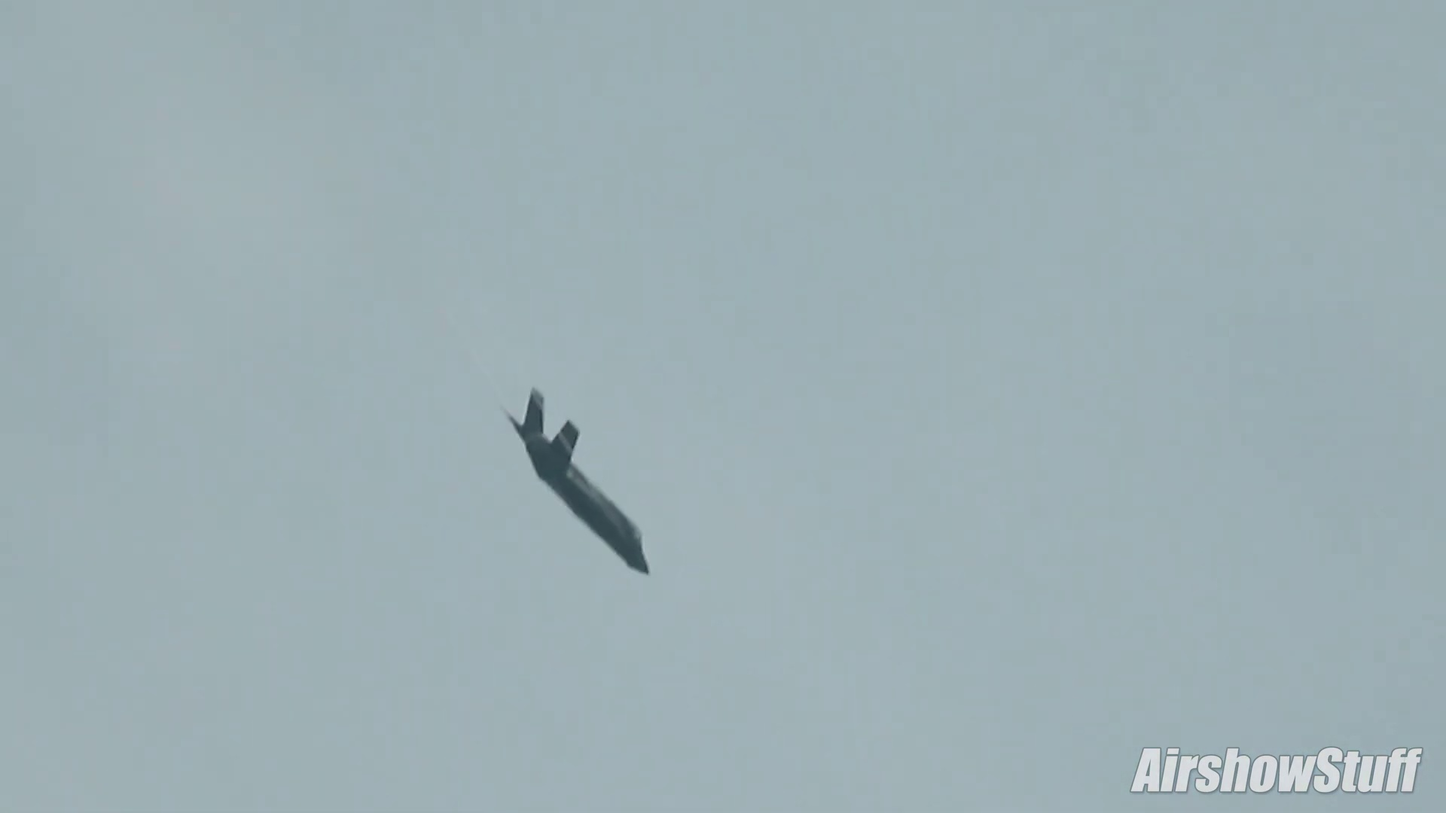F35: (497, 388, 657, 578)
